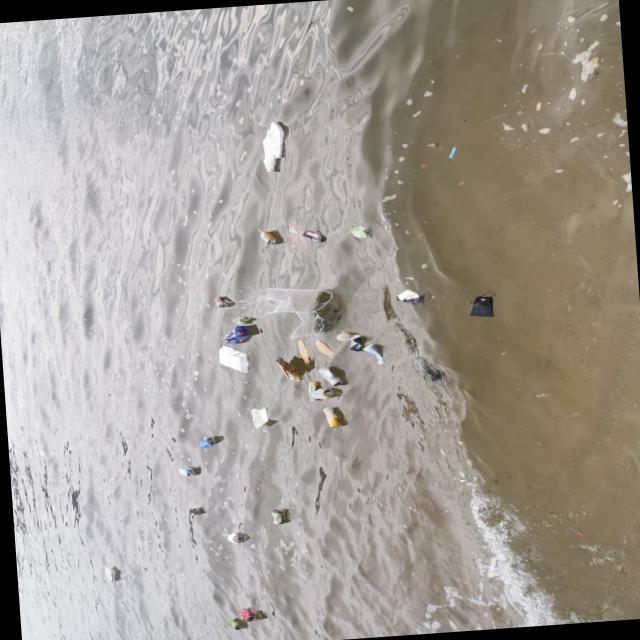can: (318, 364, 342, 386), (322, 405, 344, 428), (362, 343, 384, 364), (300, 228, 326, 244), (311, 386, 336, 399), (306, 380, 320, 400), (348, 332, 361, 352), (272, 508, 286, 524), (226, 530, 243, 543), (238, 608, 255, 620), (198, 435, 216, 446), (212, 296, 230, 307)
foam: (257, 120, 288, 172), (215, 342, 249, 372), (248, 407, 272, 428), (103, 566, 115, 581), (178, 466, 195, 474)
plastic bottle: (275, 354, 301, 382), (286, 220, 304, 247)
unknow: (418, 354, 453, 384), (394, 286, 433, 306), (466, 290, 496, 316), (294, 338, 314, 367), (314, 338, 339, 358), (224, 324, 247, 344), (256, 226, 278, 244), (349, 225, 372, 238), (336, 328, 350, 341), (186, 506, 200, 516)
